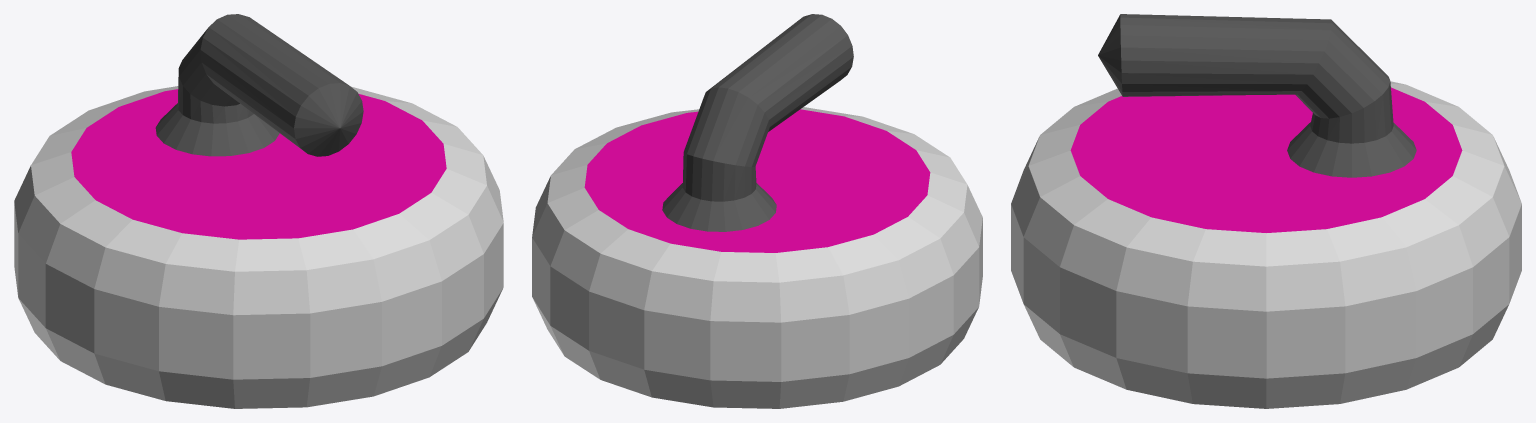
File: curlingStone.fbx
The picture shows the model from 3 angles, left to right: view 1: azimuth 30°, elevation 25°; view 2: azimuth 150°, elevation 25°; view 3: azimuth 270°, elevation 25°; orthographic projection. The views are drawn at different scales.
Visible parts, largest first — view 1: curlingStone; view 2: curlingStone; view 3: curlingStone.
Boxes of the visible parts, x1,y1,x2,y2 form: curlingStone: [14, 14, 503, 408]; curlingStone: [532, 14, 982, 408]; curlingStone: [1011, 14, 1521, 408].
Size of the model in its own units: 1.6 by 1.06 by 1.6.
